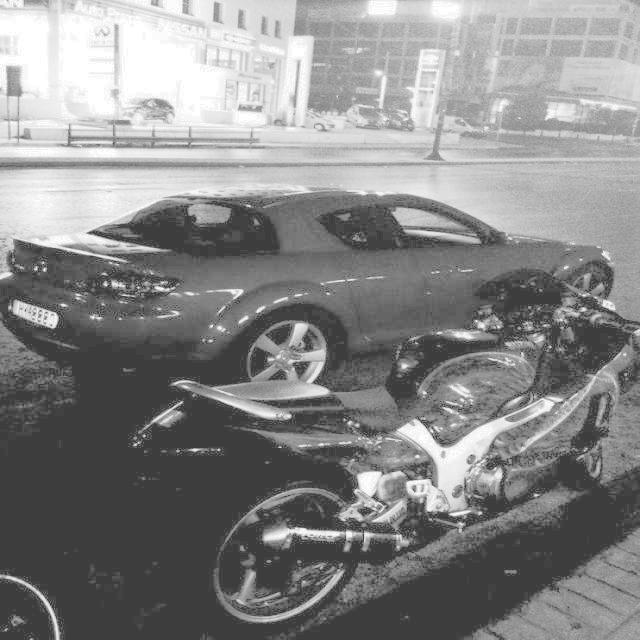Car: (0, 182, 640, 401)
Motorcycle: (135, 272, 640, 622)
